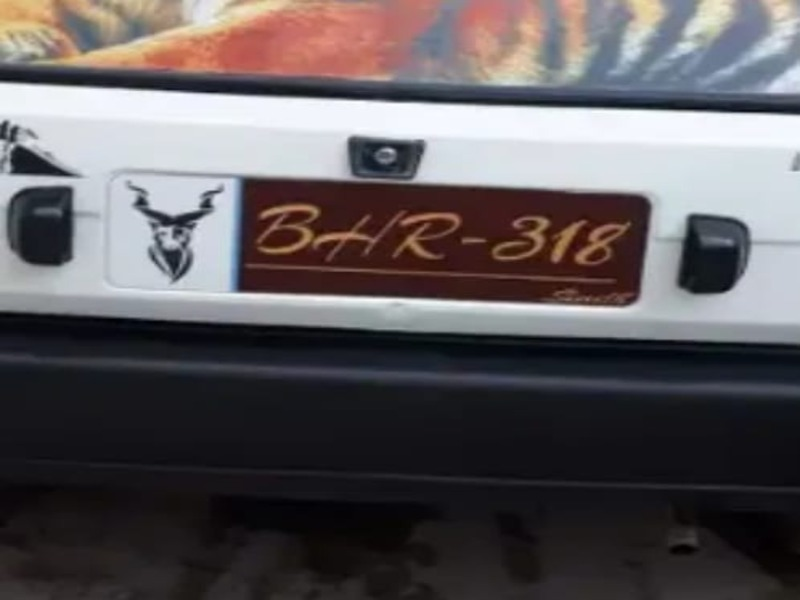License Plate: (235, 173, 655, 310)
